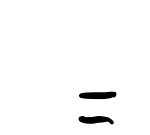eqv: (75, 85, 118, 126)
